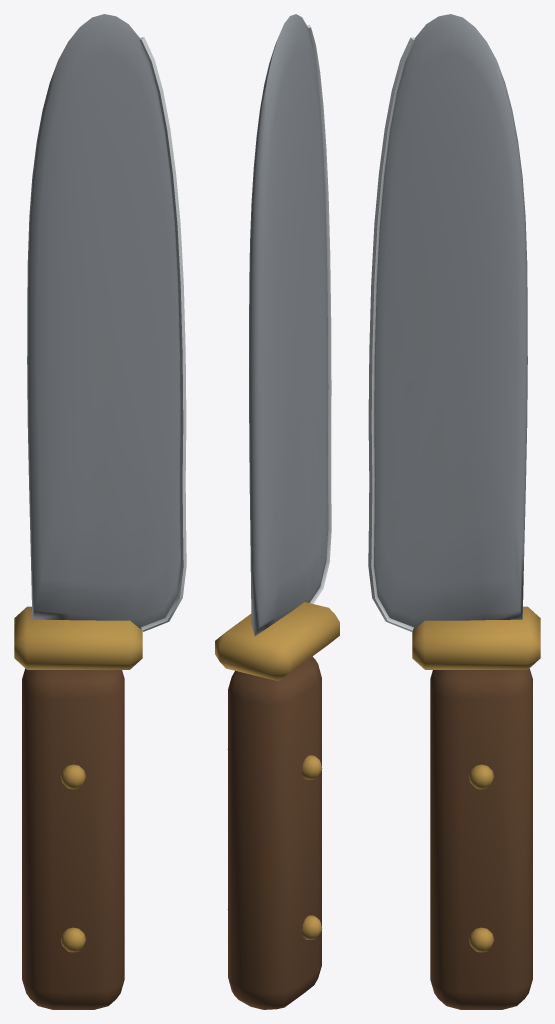
File: cook_knife.glb
3 views of the same model, side by side, from view 1: azimuth 90°, elevation 25°; view 2: azimuth 150°, elevation 25°; view 3: azimuth 270°, elevation 25° (orthographic).
Parts seen in each view (by area): view 1: cook_knife; view 2: cook_knife; view 3: cook_knife.
Boxes of the visible parts, <box> form: cook_knife: <box>14,14,186,1009</box>; cook_knife: <box>215,14,339,1009</box>; cook_knife: <box>368,14,540,1009</box>.
Size of the model in its own units: 0.0415 by 0.425 by 0.0671.
